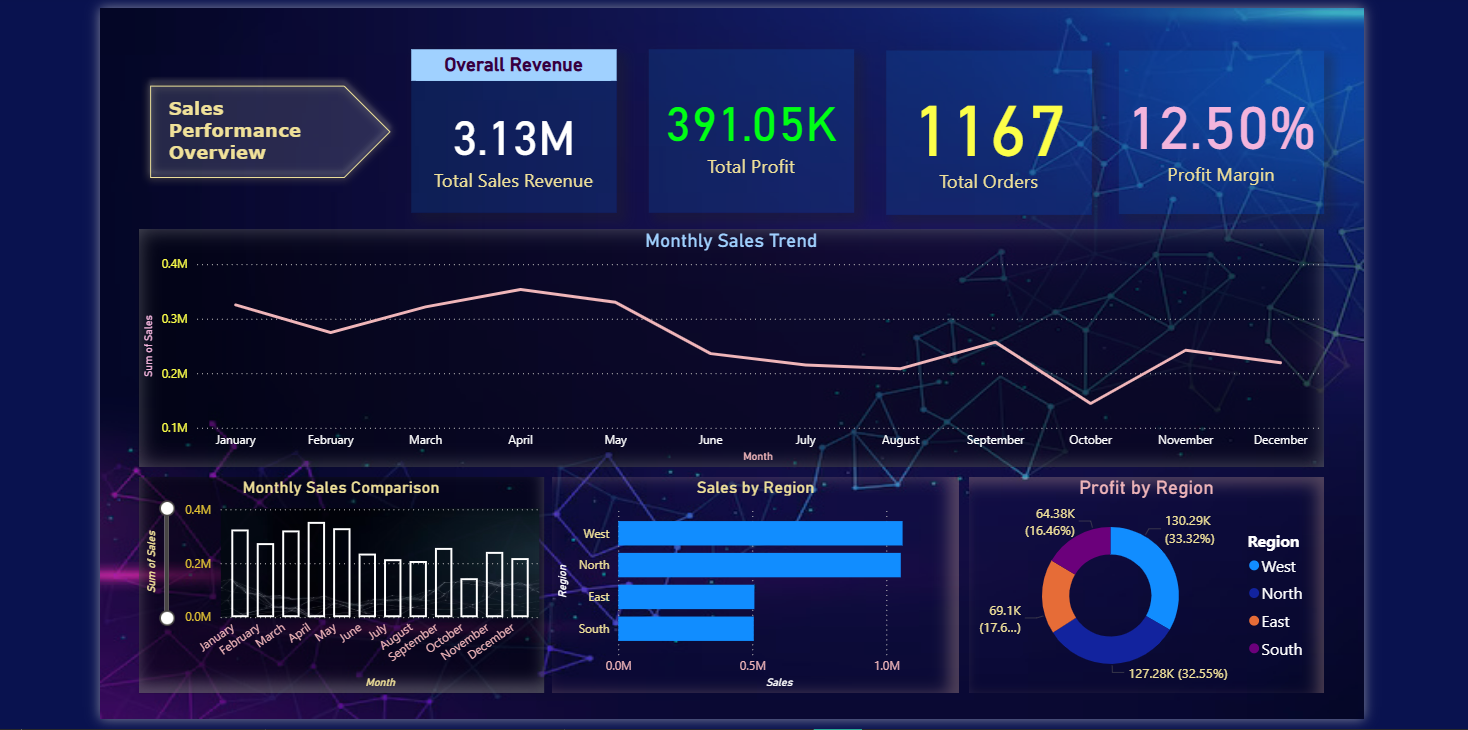

The page's visual inventory and layout, read from the dashboard file:
{"tool":"powerbi","page":{"name":"Sales Performance Overview","canvas":[1280,720],"ordinal":0},"visuals":[{"type":"card","title":"Overall Revenue","fields":{"Values":["Sheet1.Total Sales Revenue"]},"box":[315.1,42.1,207.7,165.4],"z":0},{"type":"card","title":"Overall Profit","fields":{"Values":["Sheet1.Total Profit"]},"box":[556.2,42.1,207.7,165.4],"z":1000},{"type":"card","title":"Overall Profit","fields":{"Values":["Sheet1.Total Orders"]},"box":[795.9,43.3,207.7,166.7],"z":2000},{"type":"card","title":"Overall Profit","fields":{"Values":["Sheet1.Profit Margin"]},"box":[1031.8,43.3,207.7,165.4],"z":3000},{"type":"lineChart","title":"Monthly Sales Trend","fields":{"Category":["Sheet1.Order_Date.Variation.Date Hierarchy.Month","Sheet1.Order_Date.Variation.Date Hierarchy.Day"],"Y":["Sum(Sheet1.Sales)"]},"box":[39.7,224.4,1200,241],"z":4000},{"type":"clusteredColumnChart","title":"Monthly Sales Comparison","fields":{"Category":["Sheet1.Order_Date.Variation.Date Hierarchy.Month"],"Y":["Sum(Sheet1.Sales)"]},"box":[39.7,474.4,410.3,219.2],"z":5000},{"type":"clusteredBarChart","title":"Sales by Region","fields":{"Category":["Sheet1.Region"],"Y":["Sum(Sheet1.Sales)"]},"box":[457.7,474.4,411.5,219.2],"z":6000},{"type":"shape","box":[41.4,70.1,261.5,111.5],"z":6500},{"type":"donutChart","title":"Profit by Region","fields":{"Category":["Sheet1.Region"],"Y":["Sum(Sheet1.Profit)"]},"box":[879.5,474.4,360.3,219.2],"z":7000},{"type":"textbox","box":[65,84.5,184.6,80.8],"z":9500}]}

Visuals, with their boxes on the page's 1280x720 design canvas (x1, y1, x2, y2). These are canvas units, not pixel positions in the 1468x730 screenshot, which may show the page scaled, cropped or inside an application window:
"Overall Revenue" card: bbox=(315, 42, 523, 208)
"Overall Profit" card: bbox=(556, 42, 764, 208)
"Overall Profit" card: bbox=(796, 43, 1004, 210)
"Overall Profit" card: bbox=(1032, 43, 1240, 209)
"Monthly Sales Trend" lineChart: bbox=(40, 224, 1240, 465)
"Monthly Sales Comparison" clusteredColumnChart: bbox=(40, 474, 450, 694)
"Sales by Region" clusteredBarChart: bbox=(458, 474, 869, 694)
shape: bbox=(41, 70, 303, 182)
"Profit by Region" donutChart: bbox=(880, 474, 1240, 694)
textbox: bbox=(65, 84, 250, 165)
